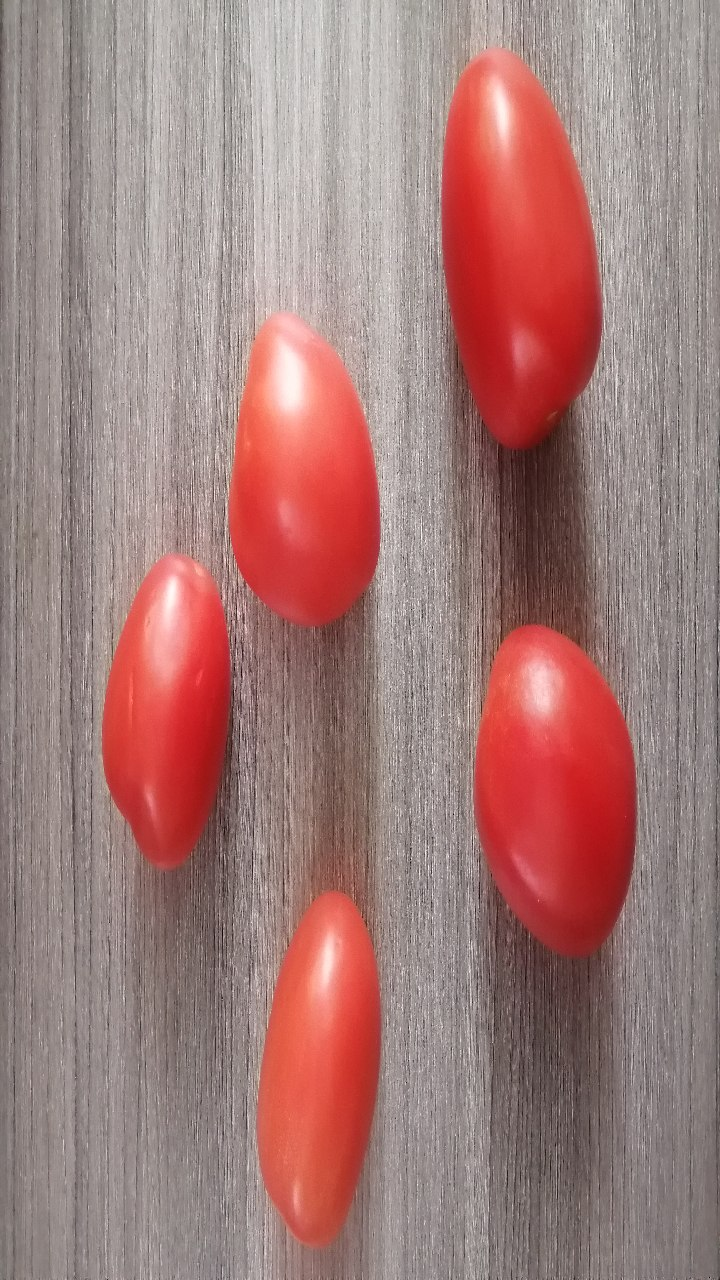tomateRojo: (409, 48, 623, 483), (441, 599, 671, 977), (198, 282, 423, 652), (220, 883, 414, 1266), (92, 526, 272, 900)
